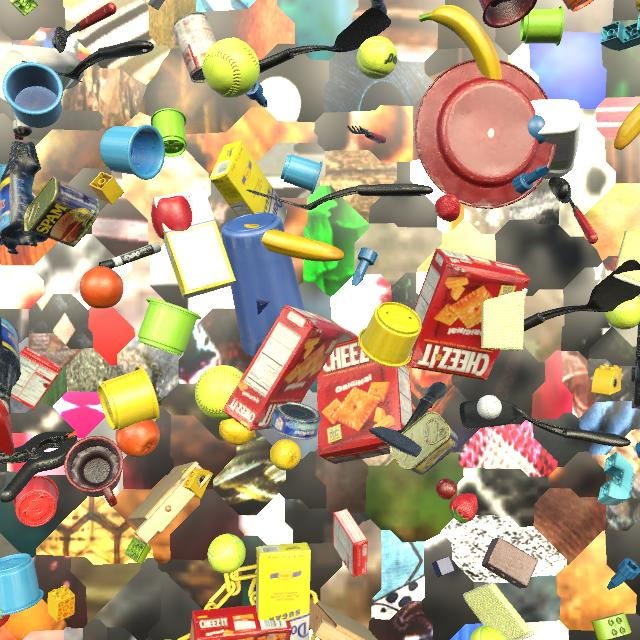ycb_003_cracker_box: (407, 248, 530, 380), (223, 305, 345, 431), (317, 338, 413, 464), (189, 605, 292, 640)
ycb_004_sugar_box: (151, 186, 236, 299), (210, 140, 287, 224), (256, 542, 311, 640), (144, 0, 165, 10)
ycb_005_tomato_soup_can: (173, 13, 216, 83)
ycb_007_tuna_fish_can: (270, 401, 321, 440)
ycb_009_gelatin_box: (11, 346, 62, 409), (333, 508, 368, 577)
ycb_010_potted_meat_can: (24, 177, 100, 247), (390, 412, 458, 475)
ycb_011_banana: (419, 5, 502, 80), (244, 224, 344, 262), (614, 103, 640, 150)
ycb_012_strawberry: (449, 493, 478, 523), (435, 194, 461, 222), (0, 609, 10, 627)
ycb_013_apple: (151, 195, 192, 239)
ycb_014_lemon: (219, 418, 256, 445), (270, 439, 301, 471), (635, 0, 640, 12), (164, 639, 170, 640)
ycb_017_orange: (80, 266, 124, 309), (116, 419, 160, 458)
